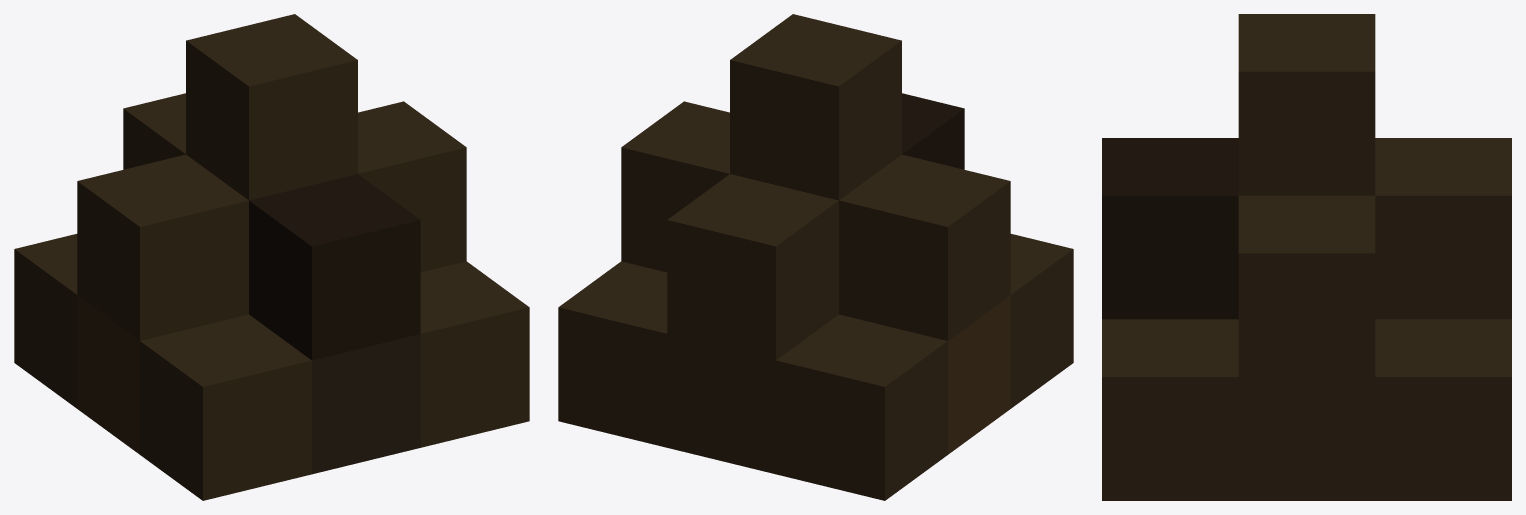
File: Pino_romeron_Daniel_Felipe_Orjuela_Rodríguez_fase_1.obj
3 views of the same model, side by side, from view 1: azimuth 30°, elevation 25°; view 2: azimuth 150°, elevation 25°; view 3: azimuth 270°, elevation 25° (orthographic). The views are drawn at different scales.
Parts seen in each view (by area): view 1: Pino_romeron_Daniel_Felipe_Orjuela_Rodríguez_fase_1; view 2: Pino_romeron_Daniel_Felipe_Orjuela_Rodríguez_fase_1; view 3: Pino_romeron_Daniel_Felipe_Orjuela_Rodríguez_fase_1.
Boxes of the visible parts, <box> form: Pino_romeron_Daniel_Felipe_Orjuela_Rodríguez_fase_1: <box>14,14,529,500</box>; Pino_romeron_Daniel_Felipe_Orjuela_Rodríguez_fase_1: <box>558,14,1073,500</box>; Pino_romeron_Daniel_Felipe_Orjuela_Rodríguez_fase_1: <box>1102,14,1511,500</box>.
Size of the model in its own units: 3 by 3 by 3.
